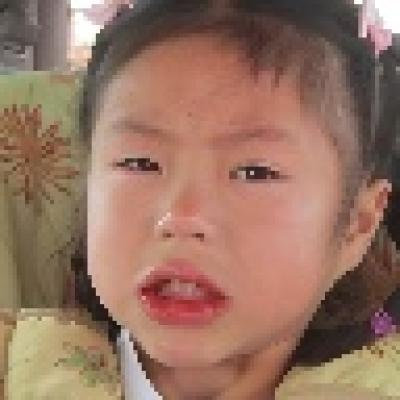angry: (88, 46, 340, 342)
